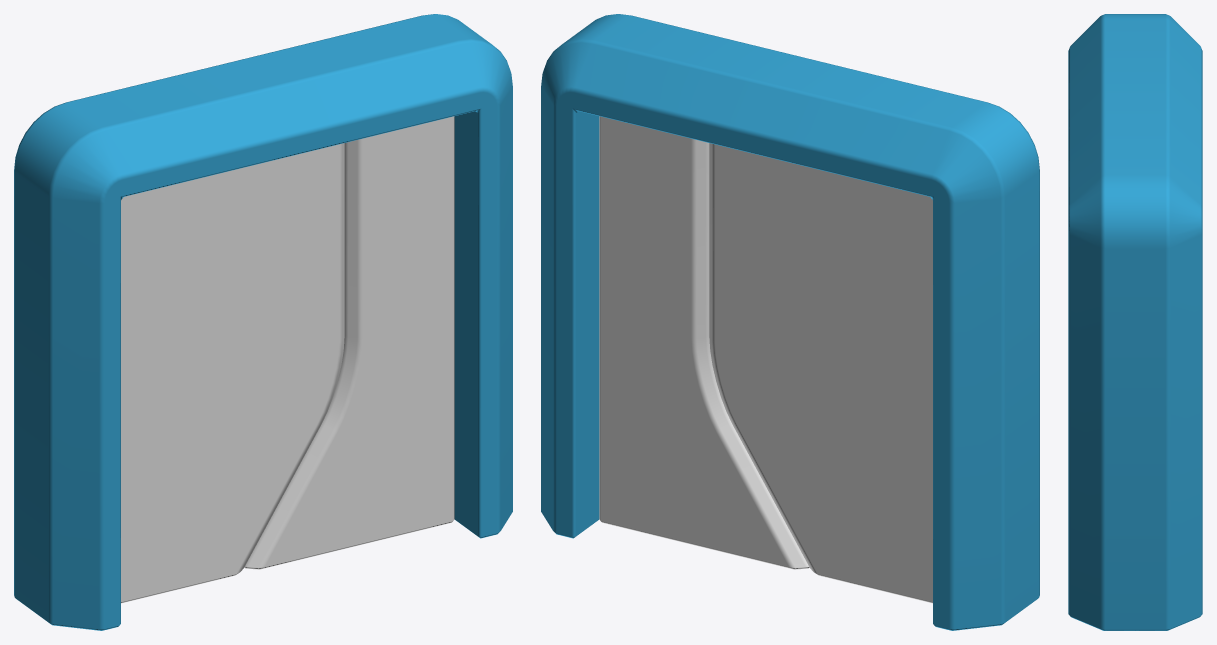
File: Door_3m.fbx
3 views of the same model, side by side, from view 1: azimuth 30°, elevation 25°; view 2: azimuth 150°, elevation 25°; view 3: azimuth 270°, elevation 25° (orthographic). The views are drawn at different scales.
Parts seen in each view (by area): view 1: Door.001, Door_Frame.001; view 2: Door.001, Door_Frame.001; view 3: Door_Frame.001.
Boxes of the visible parts, x1=… form: Door.001: x1=121, y1=116, x2=454, y2=603; Door_Frame.001: x1=14, y1=14, x2=512, y2=630; Door.001: x1=599, y1=116, x2=932, y2=603; Door_Frame.001: x1=541, y1=14, x2=1039, y2=630; Door_Frame.001: x1=1068, y1=14, x2=1202, y2=630.
Size of the model in its own units: 350 by 350 by 98.15.
